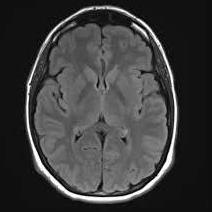Normal_Brain: (1, 1, 212, 212)
